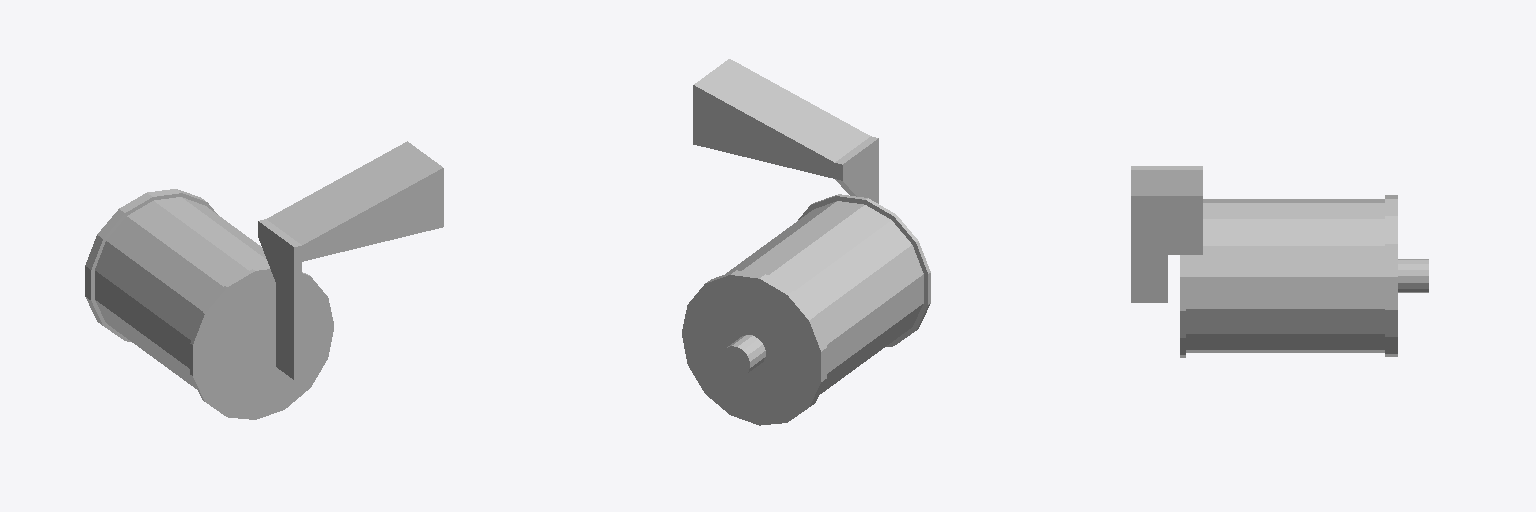
File: Coxa.obj
3 views of the same model, side by side, from view 1: azimuth 30°, elevation 25°; view 2: azimuth 150°, elevation 25°; view 3: azimuth 270°, elevation 25° (orthographic).
Bounding box in the file's own units: 0.7822 × 0.7631 × 0.8942.